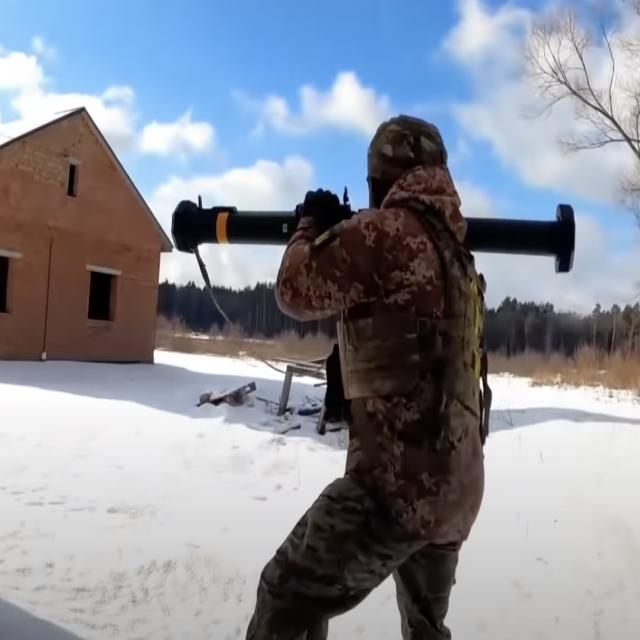bazooka: (154, 172, 610, 289)
